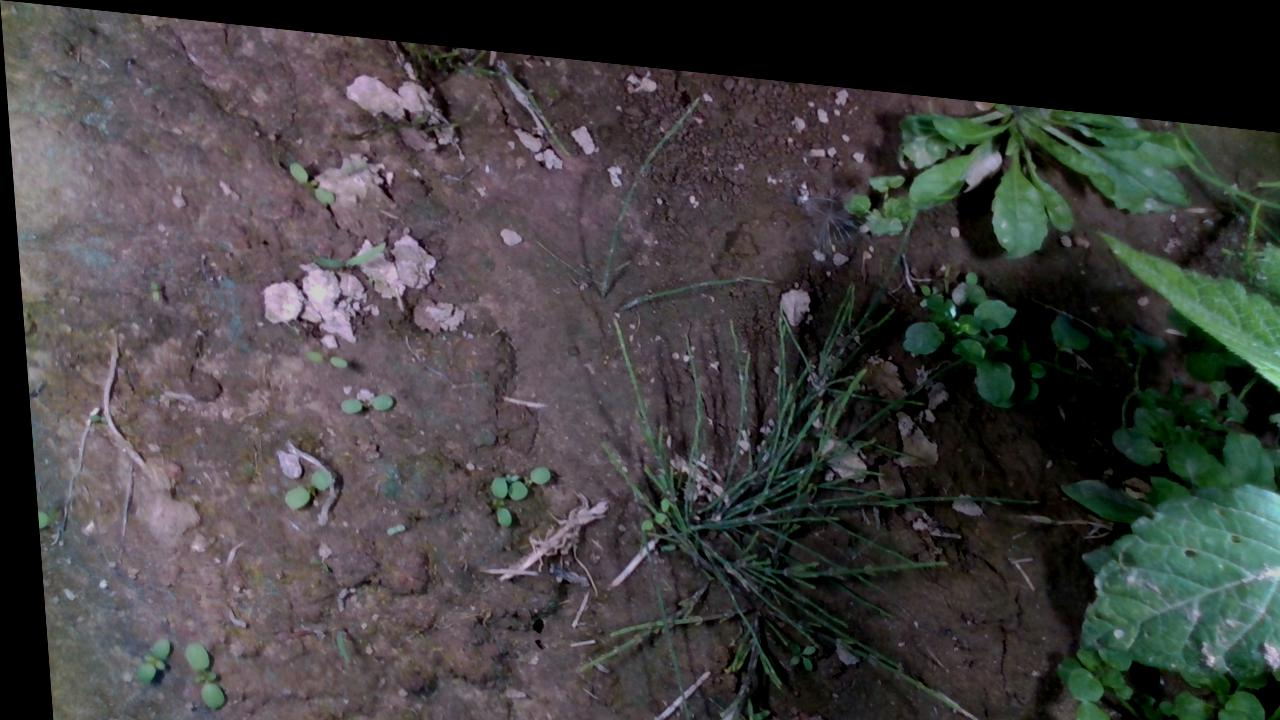weed: (172, 635, 214, 706), (273, 458, 325, 506), (121, 630, 162, 683), (284, 154, 333, 196), (332, 379, 389, 409), (298, 342, 343, 362)
